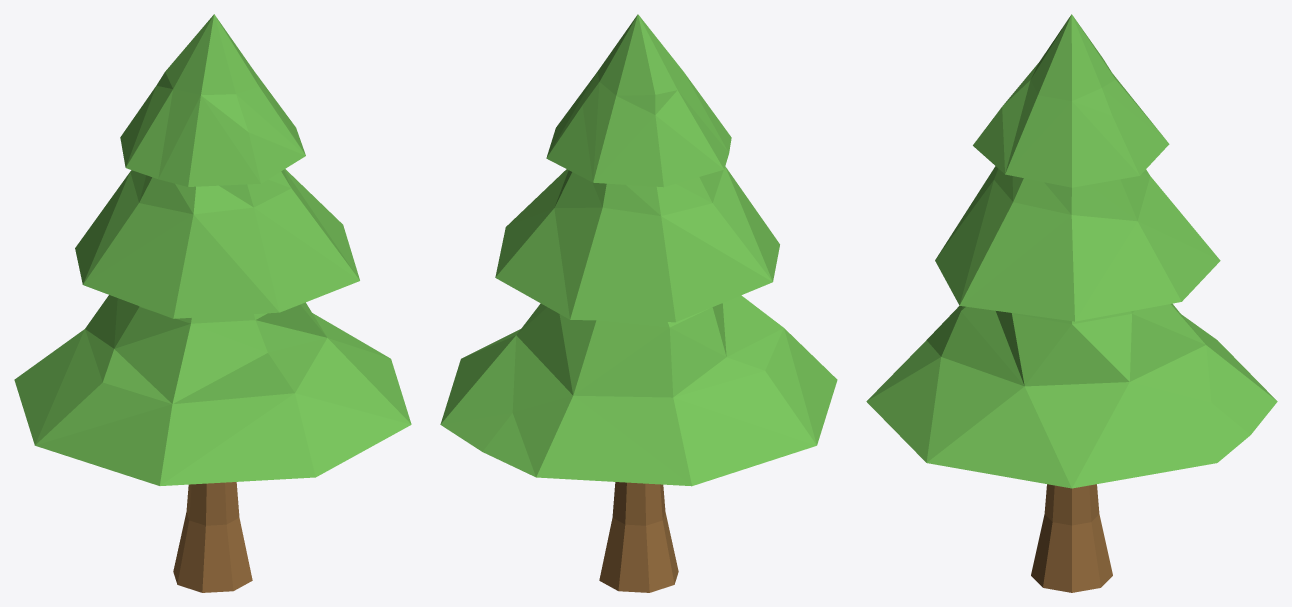
File: TreeLowPoly.fbx
3 renders of one model, left to right at view 1: azimuth 30°, elevation 25°; view 2: azimuth 150°, elevation 25°; view 3: azimuth 270°, elevation 25°, orthographic.
Parts seen in each view (by area): view 1: Tree; view 2: Tree; view 3: Tree.
Part boxes in pixels (x1,y1,x2,y2): Tree: [14, 14, 411, 592]; Tree: [440, 14, 837, 592]; Tree: [866, 14, 1277, 592].
Size of the model in its own units: 315 by 475 by 315.
